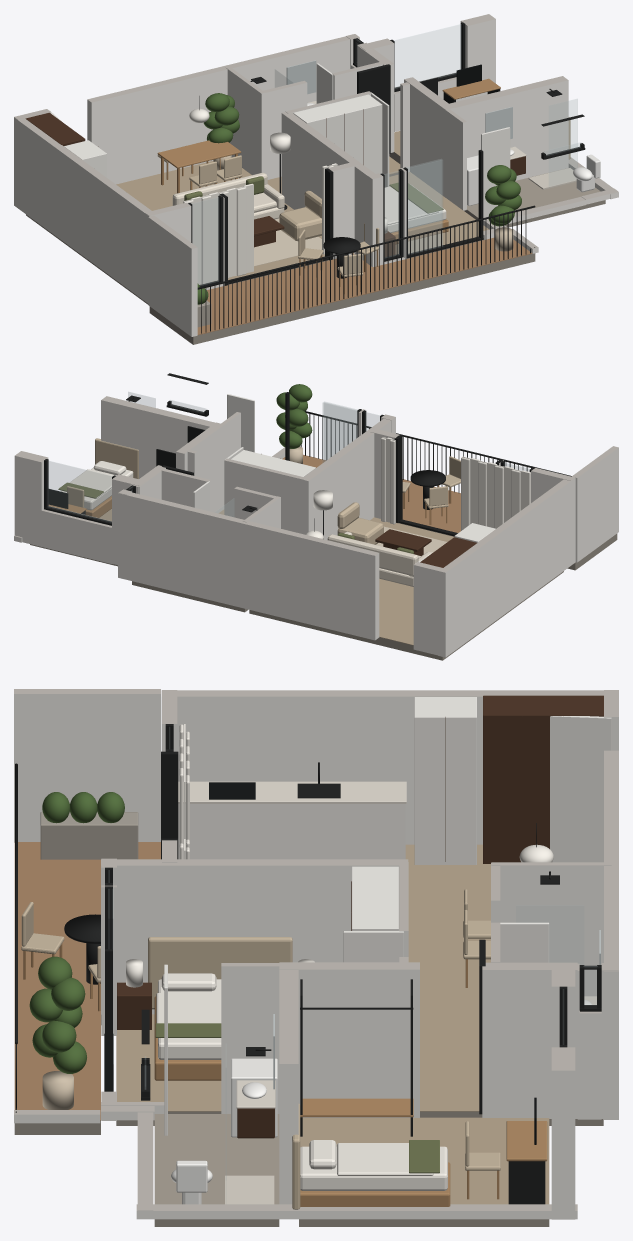
The model's file is apt-2.glb.
3 renders of one model, top to bottom at view 1: azimuth 30°, elevation 25°; view 2: azimuth 150°, elevation 25°; view 3: azimuth 270°, elevation 25°, orthographic. The views are drawn at different scales.
Visible parts, largest first — view 1: Wall living-W, Wall N-entry.001, Floor | balcony, Wall mamad-S, Wall master-W, Parapet 1, master wardrobe 14 | body, Wall mamad-W.001, Slab | balcony, mamad-N window 0 | glazing, master-S slider 1 | leaf, Living sheer (drawn) | backing (+45 smaller); view 2: Wall N-entry.001, Wall living-W, Wall master-W, Wall mamad-S, Parapet 1, Wall master-N, mamad-N window 0 | glazing, Wall N-entry, mamad-N window 0 | sill wall, Wall mamad-N.001, Floor | living, Wall mamad-W.001 (+37 smaller); view 3: Wall living-W, Wall master-W, Parapet 1, Wall mamad-W.001, Floor | balcony, living kitchen_run 0 | bases, Kitchen tall pantry | body, Wall mamad-W, Kitchen fridge column | body, Floor | living, Wall bath1-W, Floor | mamad (+57 smaller).
Boxes of the visible parts, <box> form: Wall living-W: <box>14,117,156,303</box>; Wall N-entry.001: <box>87,34,358,184</box>; Floor | balcony: <box>197,237,532,335</box>; Wall mamad-S: <box>449,76,568,180</box>; Wall master-W: <box>281,112,380,266</box>; Parapet 1: <box>148,215,197,336</box>; master wardrobe 14 | body: <box>293,94,382,173</box>; Wall mamad-W.001: <box>404,77,454,197</box>; Slab | balcony: <box>149,253,535,344</box>; mamad-N window 0 | glazing: <box>394,24,461,88</box>; master-S slider 1 | leaf: <box>407,160,442,254</box>; Living sheer (drawn) | backing: <box>183,184,253,284</box>; Wall N-entry.001: <box>118,490,379,640</box>; Wall living-W: <box>438,478,575,657</box>; Wall master-W: <box>304,418,391,539</box>; Wall mamad-S: <box>101,396,215,478</box>; Parapet 1: <box>572,446,618,562</box>; Wall master-N: <box>224,458,306,534</box>; mamad-N window 0 | glazing: <box>48,461,111,522</box>; Wall N-entry: <box>413,562,449,656</box>; mamad-N window 0 | sill wall: <box>41,506,111,563</box>; Wall mamad-N.001: <box>14,451,48,546</box>; Floor | living: <box>370,517,454,645</box>; Wall mamad-W.001: <box>176,422,224,513</box>; Wall living-W: <box>161,690,603,844</box>; Wall master-W: <box>101,859,408,1014</box>; Parapet 1: <box>14,689,160,842</box>; Wall mamad-W.001: <box>279,962,419,1117</box>; Floor | balcony: <box>14,842,160,1120</box>; living kitchen_run 0 | bases: <box>178,804,405,859</box>; Kitchen tall pantry | body: <box>483,695,603,863</box>; Wall mamad-W: <box>482,962,577,1118</box>; Kitchen fridge column | body: <box>414,697,476,864</box>; Floor | living: <box>405,844,490,1010</box>; Wall bath1-W: <box>491,862,611,996</box>; Floor | mamad: <box>300,1117,549,1204</box>.
Bounding box in the file's own units: 11.55 × 2.32 × 7.74.
